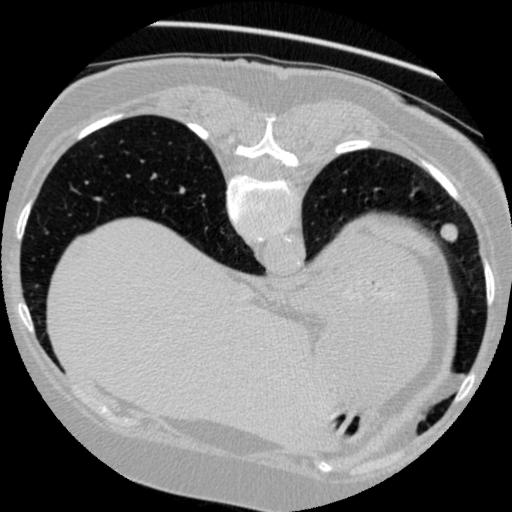nodule: (436, 220, 461, 245)
